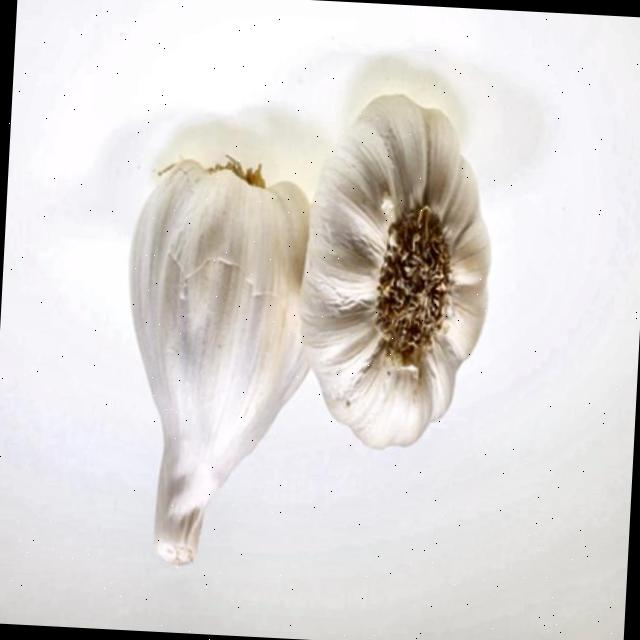garlic: (129, 159, 307, 564), (300, 95, 489, 448)
